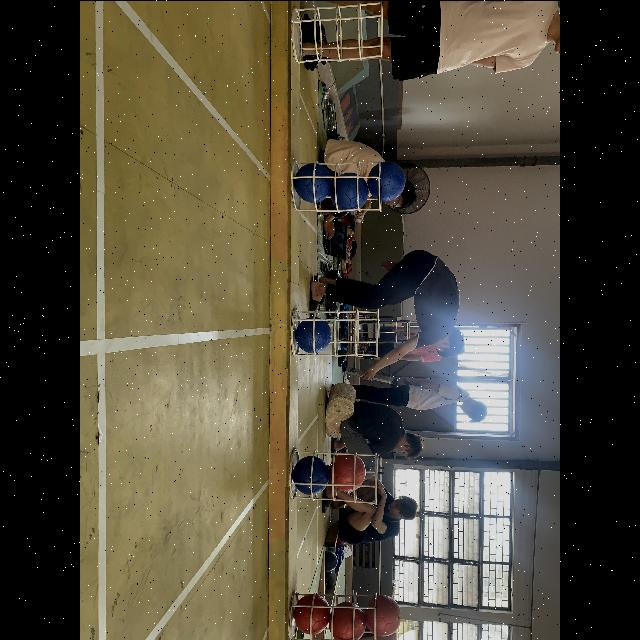B: (368, 160, 406, 200), (330, 172, 368, 210), (293, 454, 329, 494), (295, 164, 331, 202), (296, 317, 332, 353)
R: (294, 593, 330, 633), (330, 600, 366, 640), (366, 594, 400, 636), (331, 453, 365, 491)
